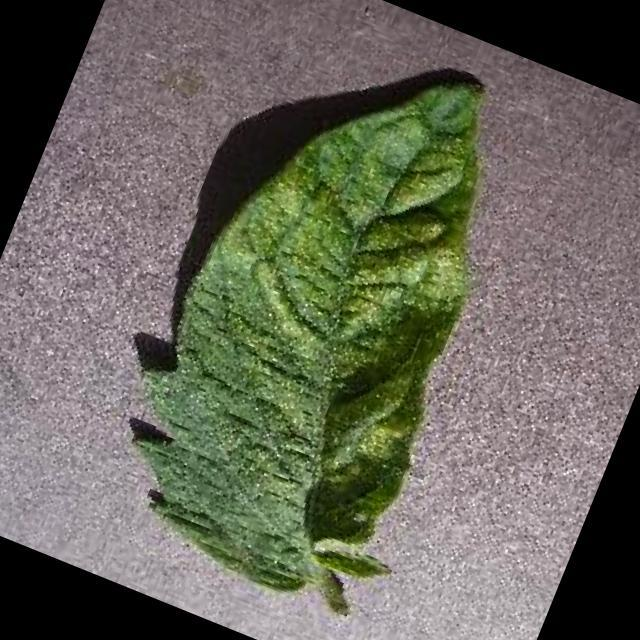Tomato spider mites leaf: (89, 6, 556, 622)
